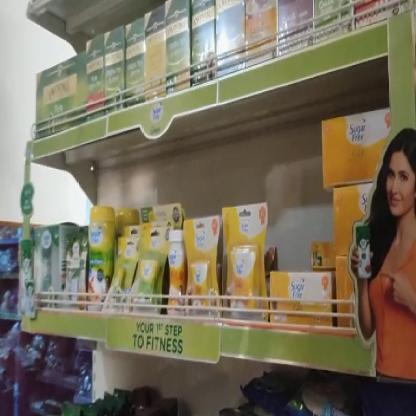SUGAR FREE GOLD 500 PELLET: (228, 202, 265, 313), (187, 218, 220, 302)
SUGAR FREE GOLD POWDER 100GM: (166, 229, 184, 312)
SUGAR FREE GOLD SACHET 50 SUGAR FREE GOLD SACHET 50: (322, 112, 387, 178), (272, 270, 332, 320)
SUGAR FREE GRN 300 PELLET: (58, 225, 87, 300)
SUGAR FREE NATURA 500 PELLET: (135, 233, 162, 311)
SUGAR FREE NATURA DIET SUGAR: (89, 206, 112, 304)
SUGAR FREE NATURA SWEET DROPS: (112, 236, 136, 310)
